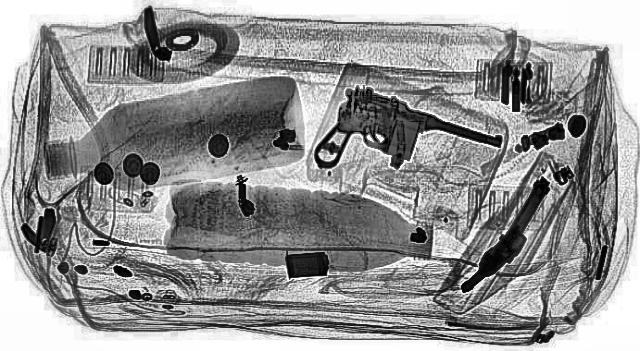Gun: (267, 82, 515, 201), (456, 176, 560, 298)
